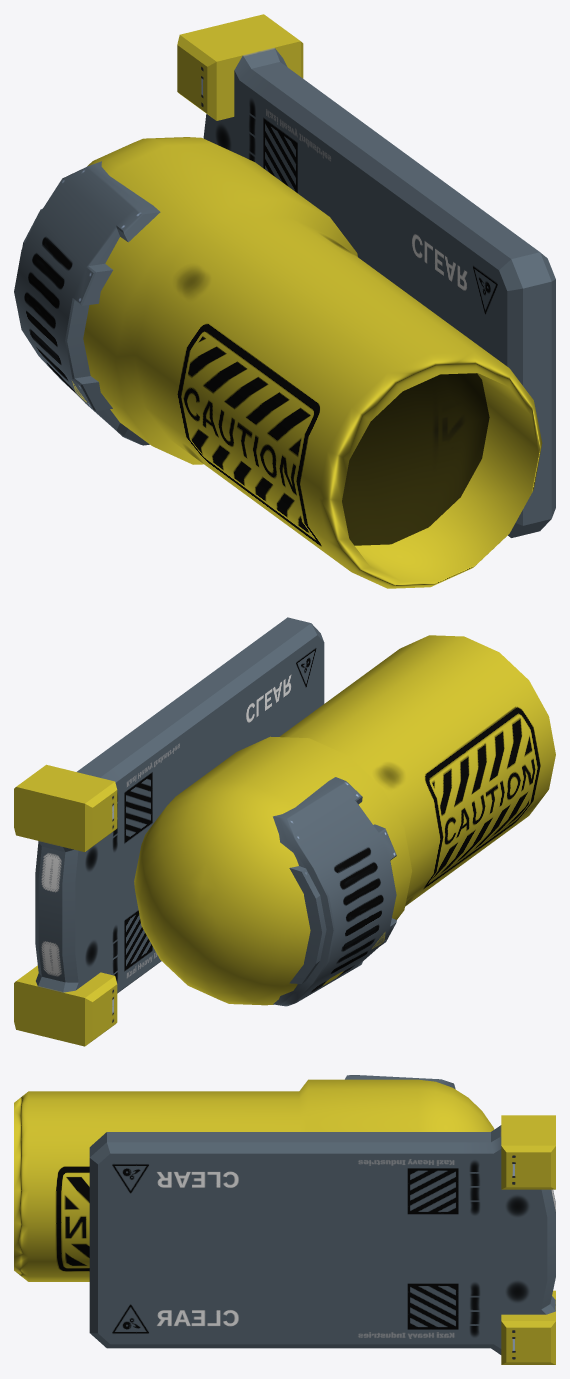
File: SM_Chainsaw_Launcher.fbx
The picture shows the model from 3 angles, top to bottom: view 1: azimuth 30°, elevation 25°; view 2: azimuth 150°, elevation 25°; view 3: azimuth 270°, elevation 25°; orthographic projection. The views are drawn at different scales.
Parts seen in each view (by area): view 1: SM_Chainsaw_Launcher; view 2: SM_Chainsaw_Launcher; view 3: SM_Chainsaw_Launcher.
Part boxes in pixels (x1=…): SM_Chainsaw_Launcher: x1=14, y1=14, x2=555, y2=588; SM_Chainsaw_Launcher: x1=14, y1=617, x2=555, y2=1046; SM_Chainsaw_Launcher: x1=14, y1=1075, x2=555, y2=1364.
Size of the model in its own units: 14.6 by 27.47 by 12.25.
Materials: 1 (1 with a texture image).
